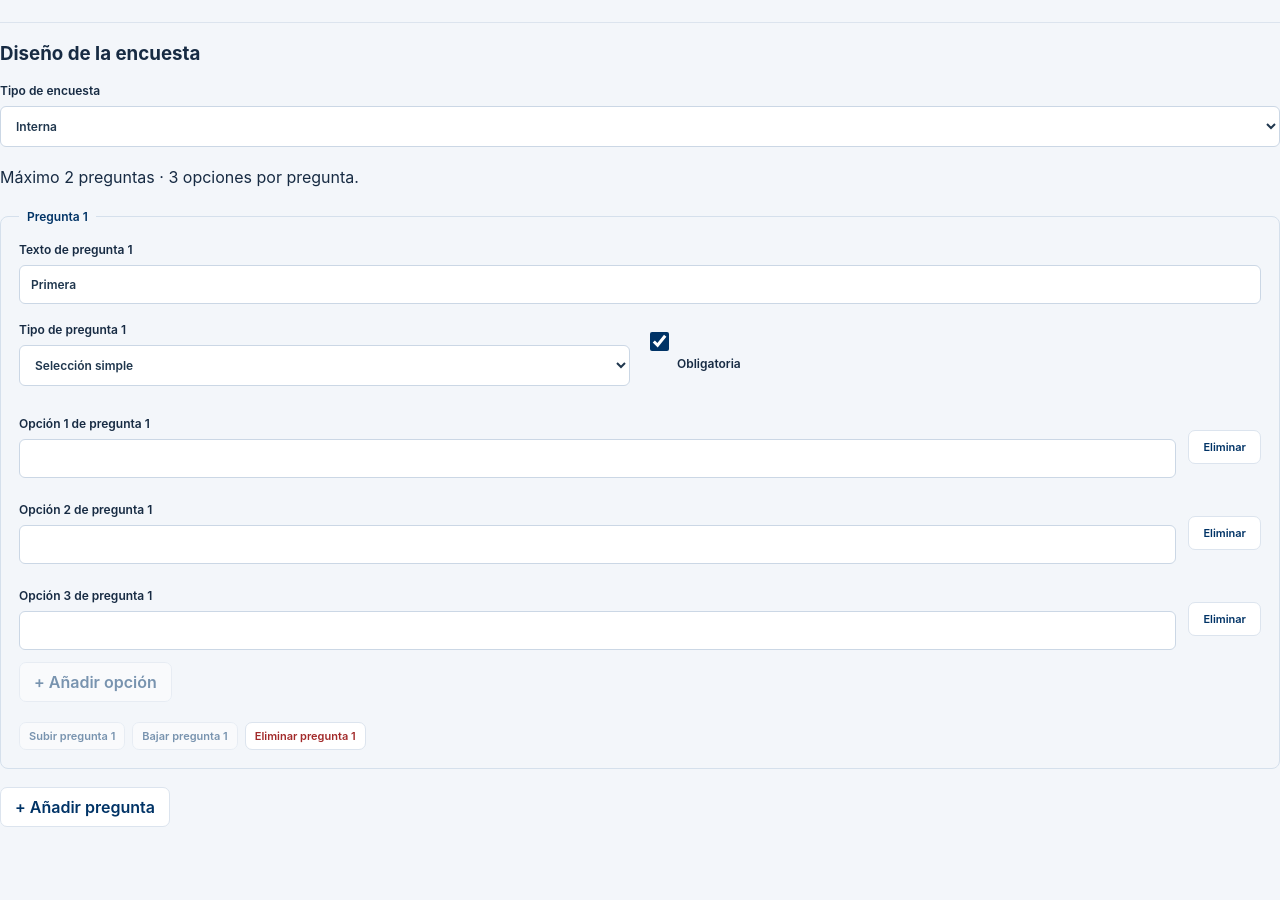
Test: edita y reordena preguntas, opciones y obligatoriedad con límites configurables
The width and height of the screenshot is (1280, 900).
Earlier steps of the test are not shown.
Expected: the button "+ Añadir opción" is disabled, [19,662,172,702]
Click the button with aria-label "Eliminar opción 3 de pregunta 1": click(1225, 619) [1188,602,1261,636]
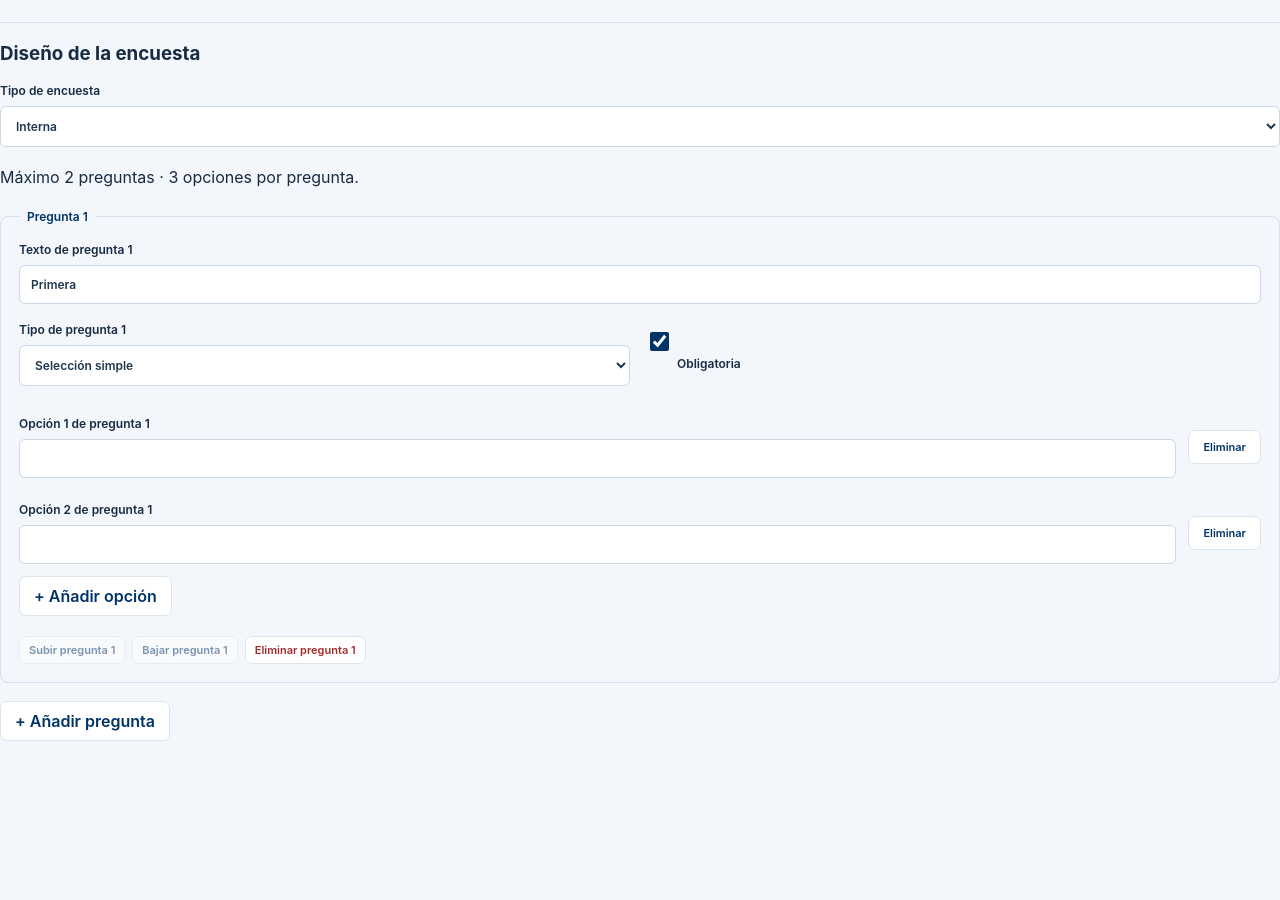
Click the button "+ Añadir pregunta": click(85, 721) [0,701,170,741]
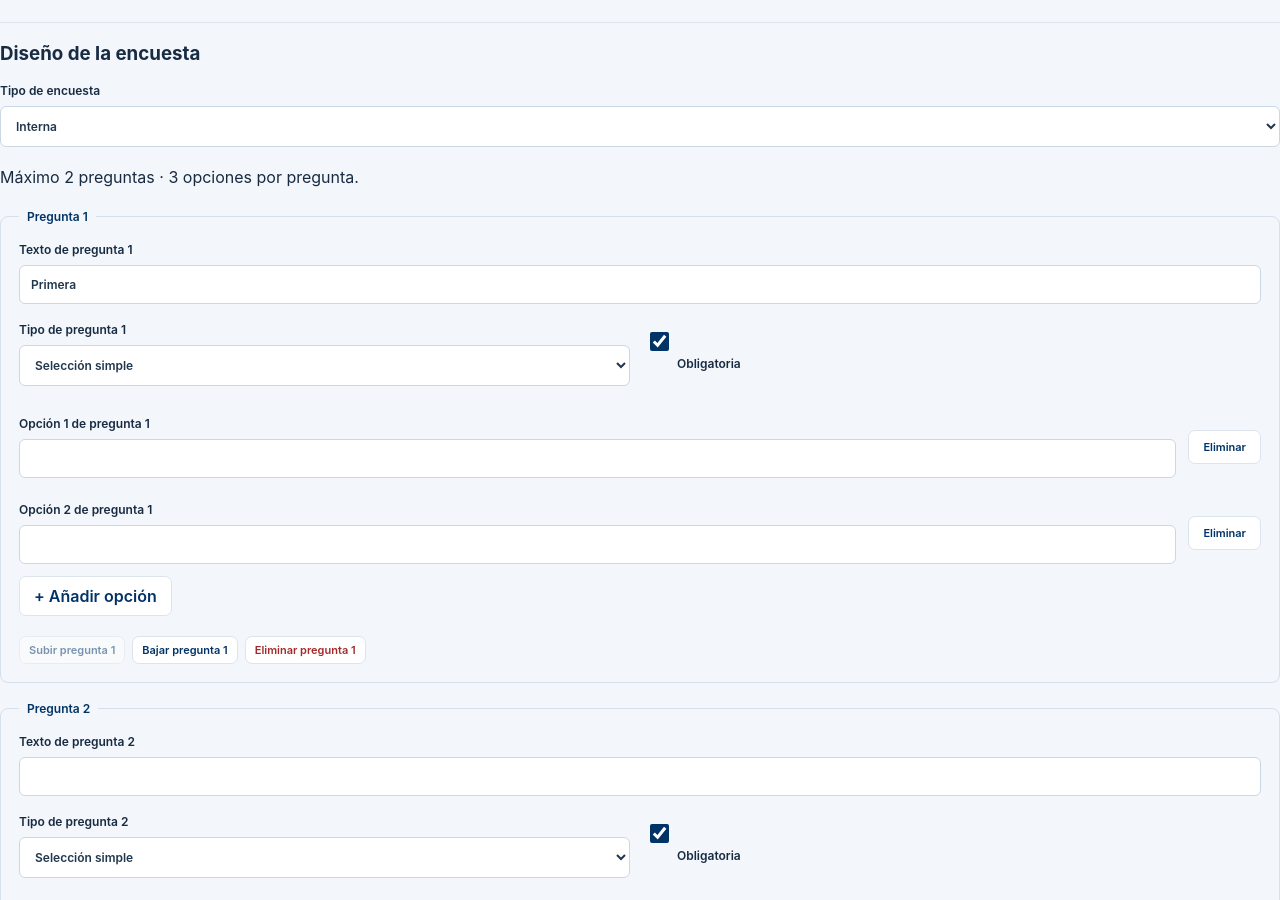
In the field labelled "Texto de pregunta 2": (640, 776) [19,757,1261,796], type "Segunda"
(page scrolled)
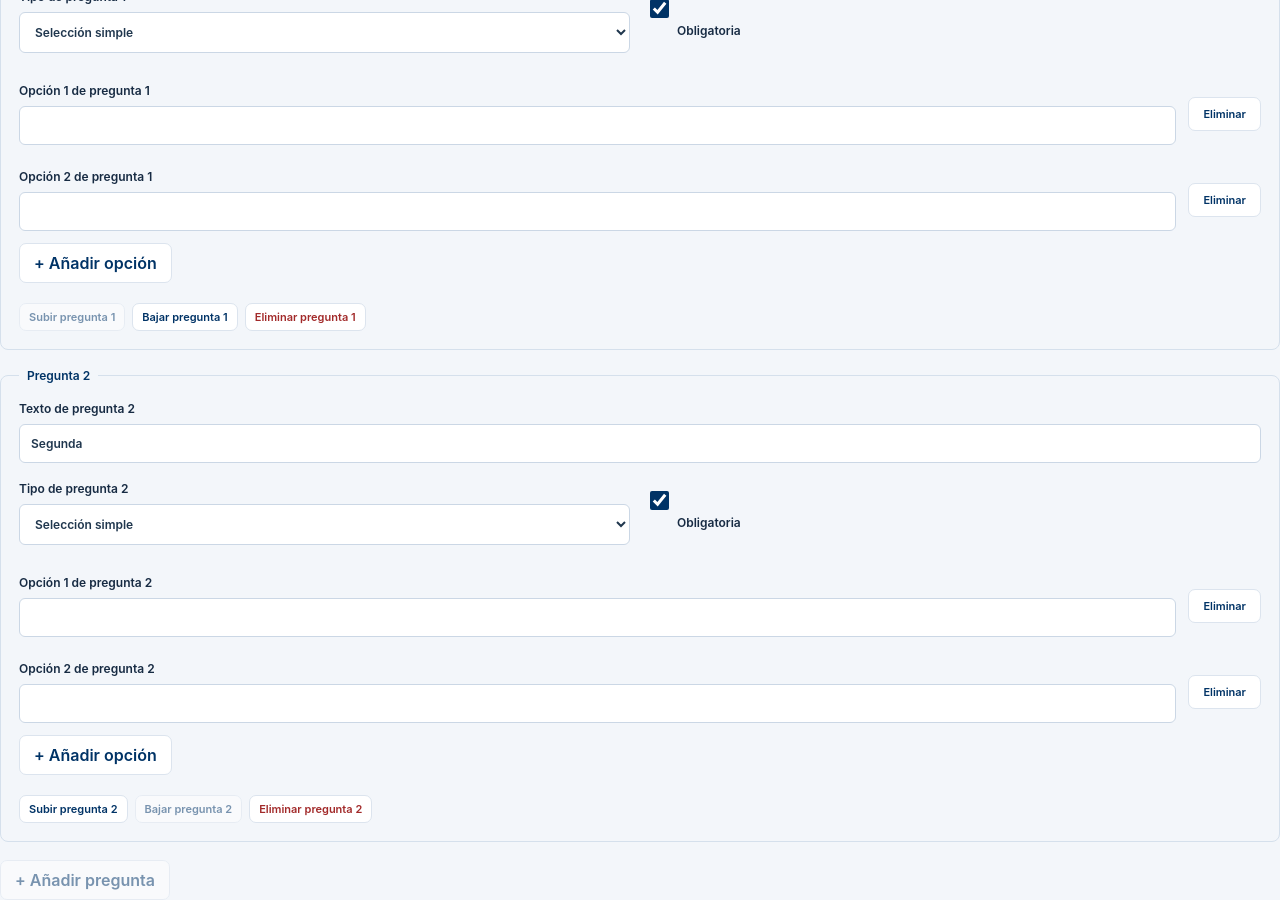
Result: the button "+ Añadir pregunta" is disabled at [0,860,170,899]
Click the button "Subir pregunta 2": click(73, 809) [19,795,128,823]
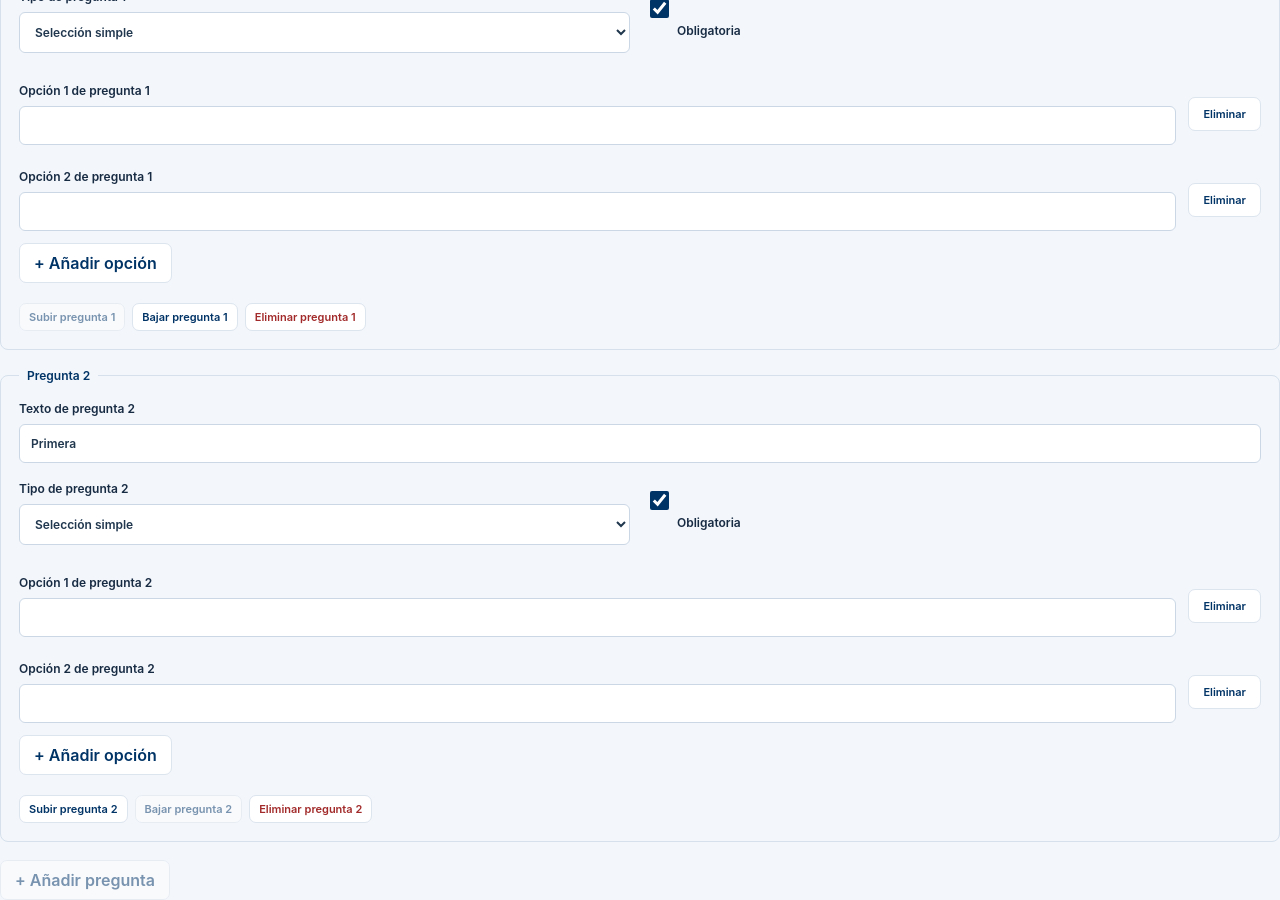
Select "Pregunta abierta" in the dropdown labelled "Tipo de pregunta 1": (324, 32) [19,12,630,53]
(page scrolled)
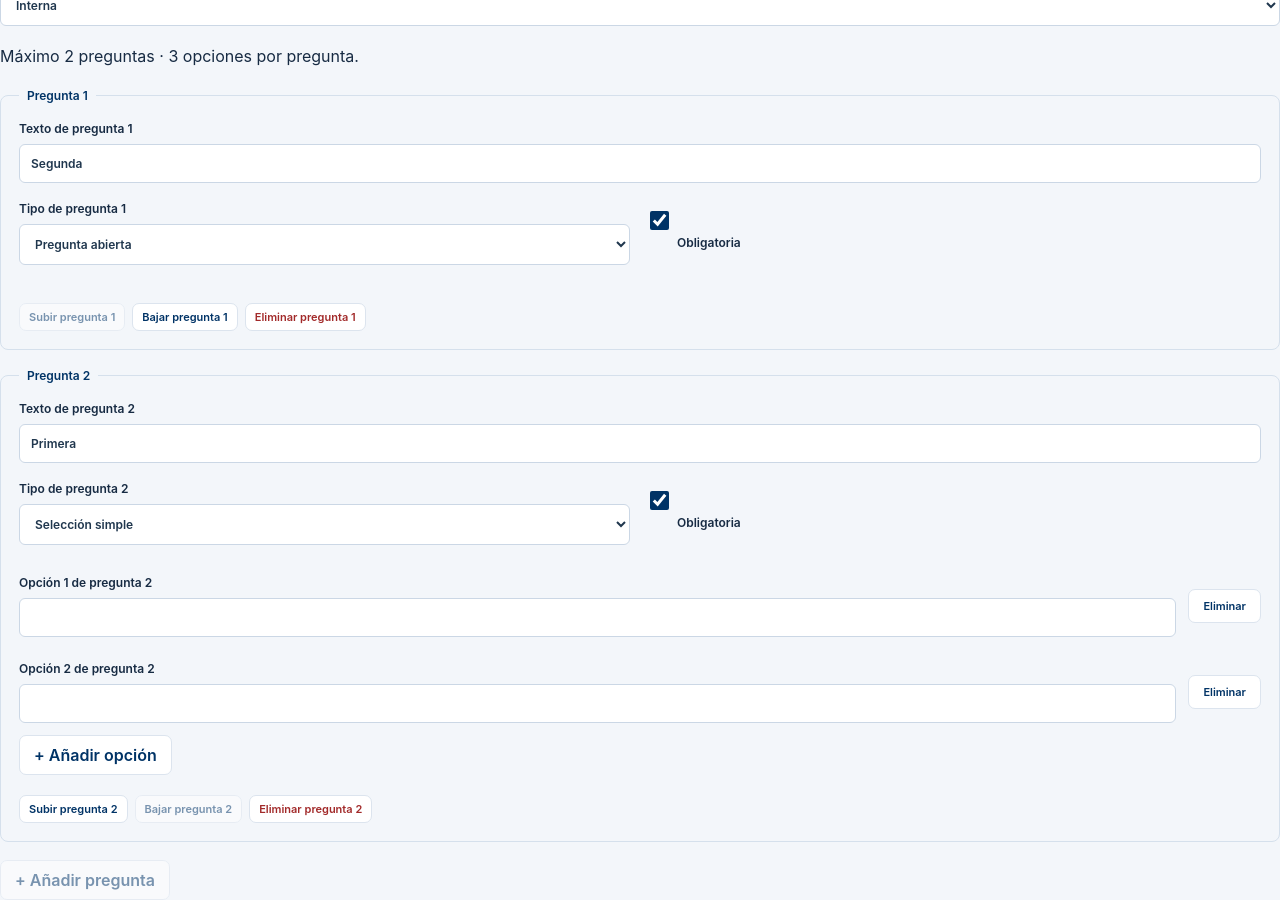
Result: the label labelled "Opción 1 de pregunta 1" is gone
Click the 1st checkbox labelled "Obligatoria": click(660, 220) [650,211,669,230]
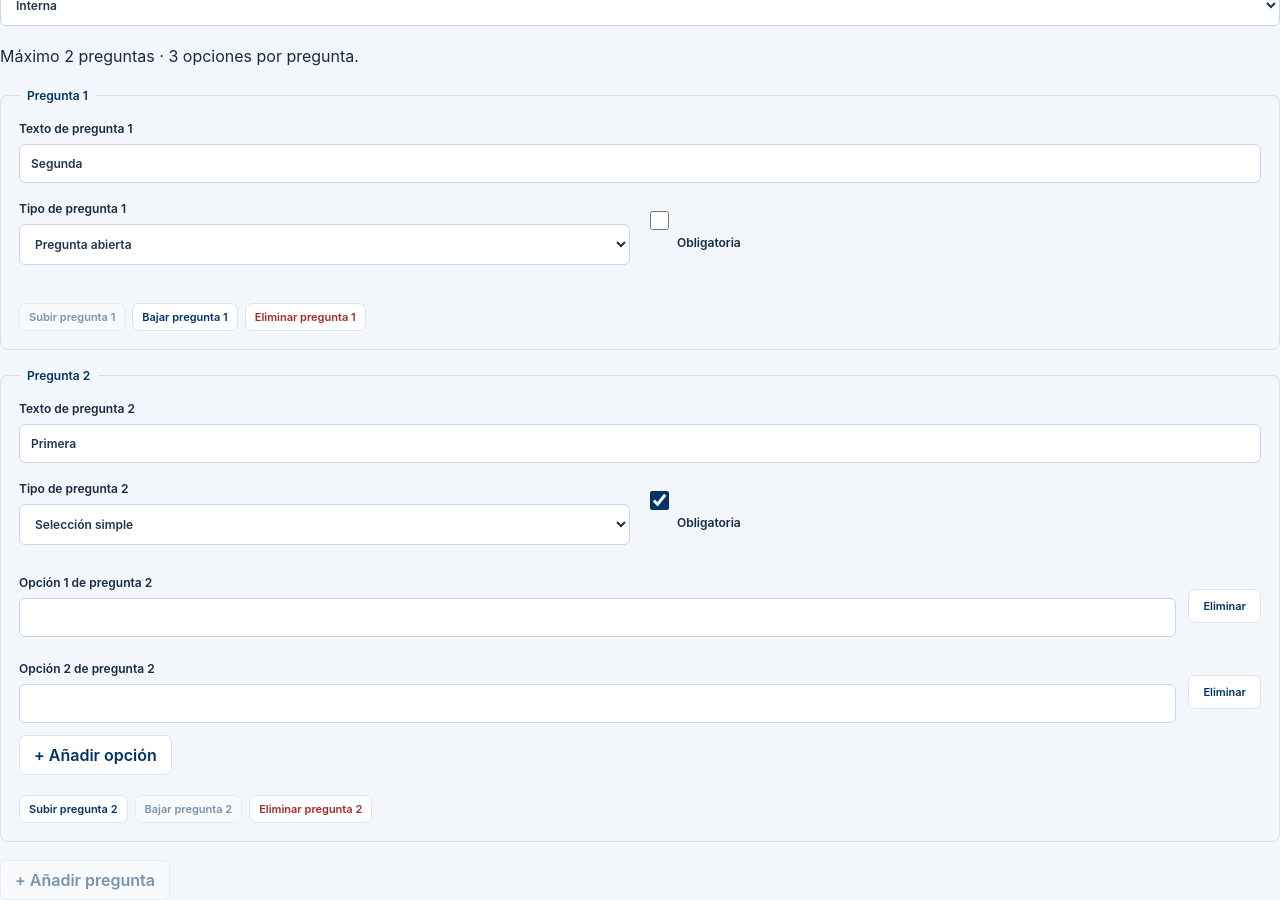
Result: the 1st checkbox labelled "Obligatoria" is not checked at [650,211,669,230]
